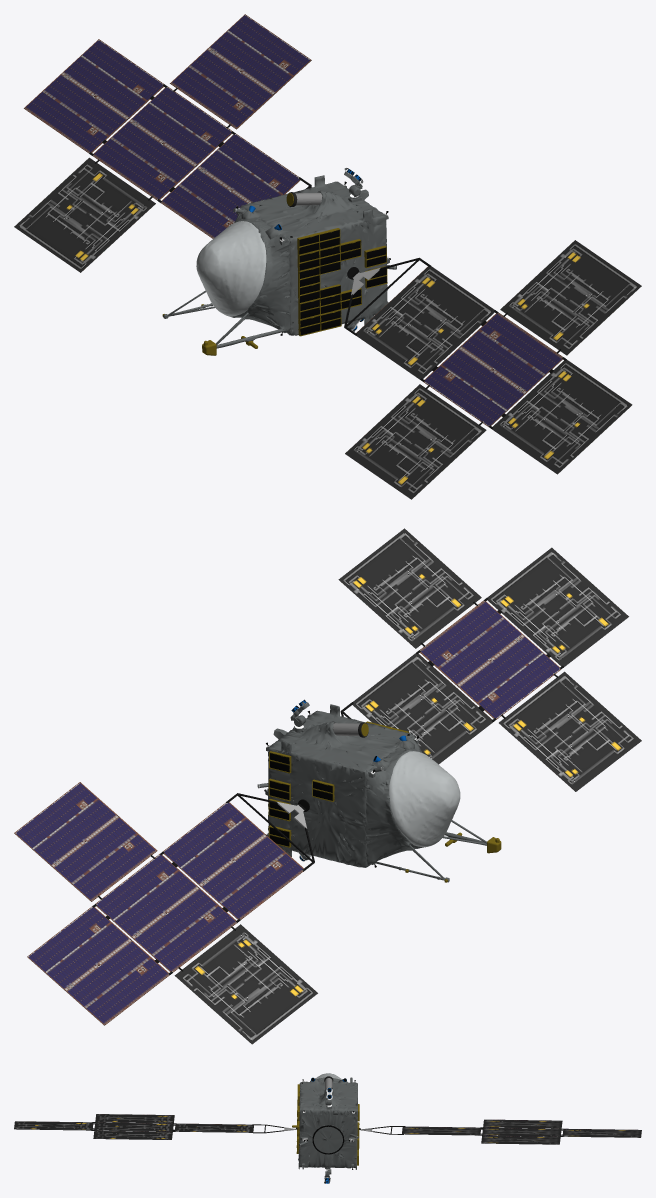
Rendered from satellite_light.glb.
3 renders of one model, top to bottom at view 1: azimuth 30°, elevation 25°; view 2: azimuth 150°, elevation 25°; view 3: azimuth 270°, elevation 25°, orthographic. The views are drawn at different scales.
Parts seen in each view (by area): view 1: anti_earth; view 2: anti_earth; view 3: anti_earth.
Boxes of the visible parts, x1=… form: anti_earth: x1=14, y1=14, x2=641, y2=499; anti_earth: x1=14, y1=528, x2=641, y2=1044; anti_earth: x1=14, y1=1073, x2=641, y2=1183.
Size of the model in its own units: 12.36 by 7.44 by 42.35.
Materials: 89 (11 with a texture image).
